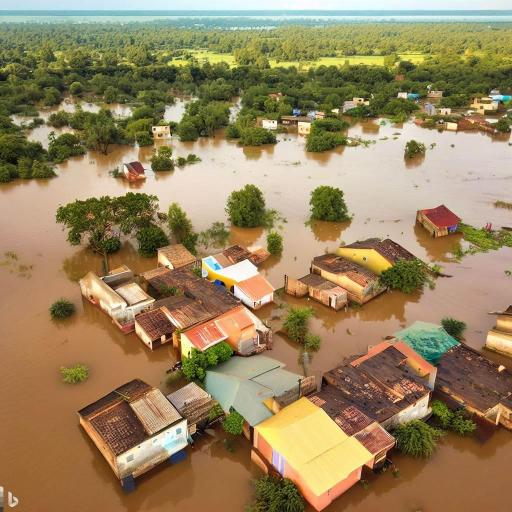flood: (0, 122, 512, 512), (328, 430, 512, 512), (24, 124, 73, 148), (38, 96, 76, 122), (79, 101, 131, 117), (164, 96, 193, 121), (11, 116, 32, 125)
house: (247, 396, 391, 500), (386, 322, 512, 430), (74, 376, 190, 482), (323, 342, 433, 422), (176, 301, 266, 363), (80, 266, 156, 336), (312, 252, 387, 307), (340, 236, 426, 280), (217, 257, 276, 312), (167, 383, 225, 429), (202, 244, 258, 284), (297, 272, 347, 312), (134, 306, 176, 353), (416, 202, 460, 244), (484, 304, 512, 358), (152, 241, 199, 272), (121, 161, 145, 186), (154, 122, 170, 144), (296, 115, 310, 135)
